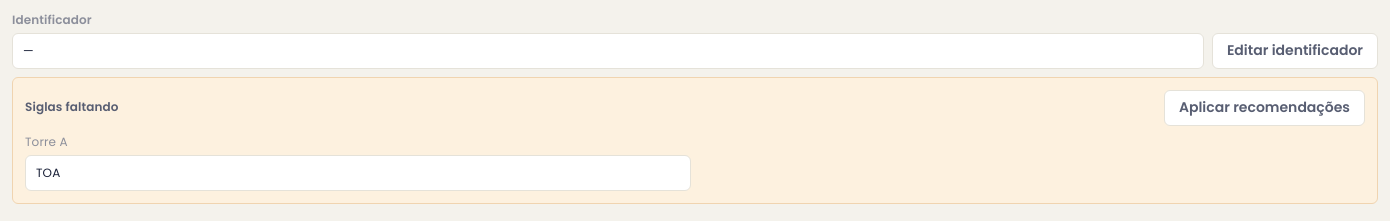
Test: CampoIdentificador › bloqueia a aplicação enquanto uma sugestão está inválida
Clear the field showing "TOA". click: (358, 173)
box: [25,155,691,191]
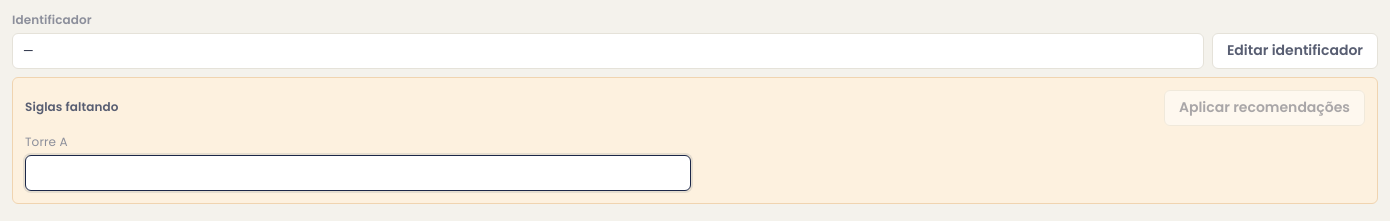
Now the button "Aplicar recomendações" is disabled, box [1164,90,1365,126]
